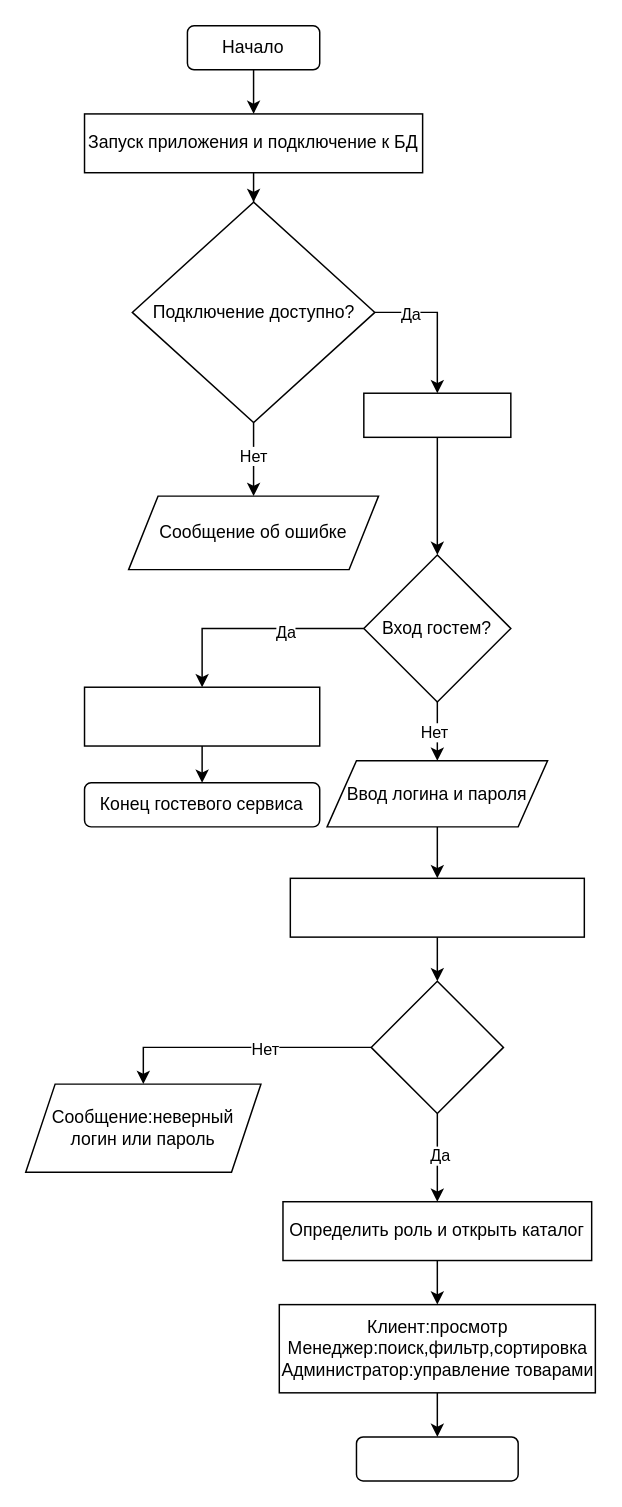
This 622x1507 diagram has some shape labels left out. The shapes that lost their labels are listed below. From the top down, each one's centre as x and y in pixels, then its label:
At pixel 436 414: "Окно входа".
At pixel 201 716: "Каталог:только просмотр".
At pixel 436 907: "Проверить учётные данные в БД".
At pixel 436 1047: "Данные верны?".
At pixel 436 1458: "Выход-окновхода".
